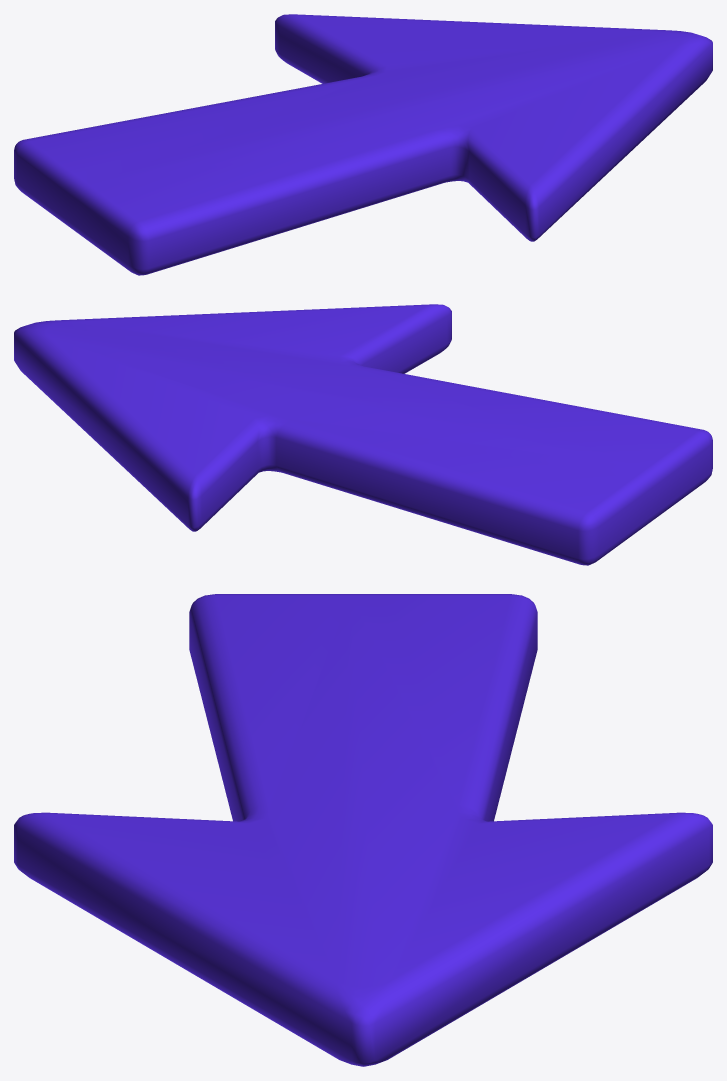
3 renders of one model, top to bottom at view 1: azimuth 30°, elevation 25°; view 2: azimuth 150°, elevation 25°; view 3: azimuth 270°, elevation 25°, orthographic. The views are drawn at different scales.
Parts seen in each view (by area): view 1: Arrow; view 2: Arrow; view 3: Arrow.
Part boxes in pixels (bbox=[...]): Arrow: bbox=[14, 14, 712, 275]; Arrow: bbox=[14, 304, 712, 565]; Arrow: bbox=[14, 594, 712, 1066].
Bounding box in the file's own units: 301 × 23.43 × 211.
